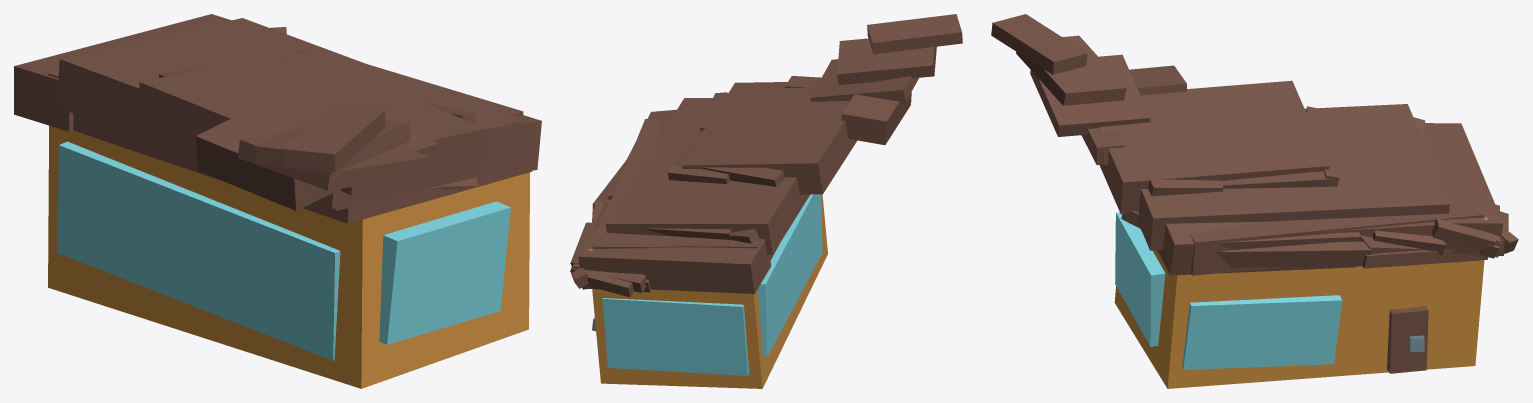
Rendered from Jogurtore.fbx.
The picture shows the model from 3 angles, left to right: view 1: azimuth 30°, elevation 25°; view 2: azimuth 150°, elevation 25°; view 3: azimuth 270°, elevation 25°; orthographic projection. The views are drawn at different scales.
Visible parts, largest first — view 1: mesh_2004811511, mesh_461832873, mesh_1659385762, mesh_938259468, mesh_398621321, mesh_55245588, mesh_2019317318, mesh_1629644134, mesh_2011481608, mesh_1951806346, mesh_1241165192, mesh_417139860 (+2 smaller); view 2: mesh_1659385762, mesh_938259468, mesh_1246377267, mesh_2004811511, mesh_1629644134, mesh_461832873, mesh_1241165192, mesh_2019317318, mesh_1983518271, mesh_55245588, mesh_1951806346, mesh_1695027899 (+8 smaller); view 3: mesh_2004811511, mesh_1659385762, mesh_938259468, mesh_79294037, mesh_1983518271, mesh_398621321, mesh_1951806346, mesh_417139860, mesh_1629644134, mesh_1241165192, mesh_1891197092, mesh_2019317318 (+12 smaller).
Part boxes in pixels (bbox=[...]): mesh_2004811511: bbox=[48, 125, 529, 388]; mesh_461832873: bbox=[57, 141, 340, 360]; mesh_1659385762: bbox=[135, 49, 486, 208]; mesh_938259468: bbox=[56, 18, 521, 210]; mesh_398621321: bbox=[379, 201, 510, 344]; mesh_55245588: bbox=[195, 112, 340, 210]; mesh_2019317318: bbox=[282, 105, 385, 172]; mesh_1629644134: bbox=[14, 14, 231, 131]; mesh_2011481608: bbox=[48, 70, 533, 223]; mesh_1951806346: bbox=[237, 132, 429, 190]; mesh_1241165192: bbox=[254, 119, 409, 174]; mesh_417139860: bbox=[501, 114, 541, 174]; mesh_1659385762: bbox=[682, 81, 857, 194]; mesh_938259468: bbox=[605, 98, 809, 254]; mesh_1246377267: bbox=[602, 298, 748, 375]; mesh_2004811511: bbox=[588, 194, 827, 388]; mesh_1629644134: bbox=[578, 229, 770, 293]; mesh_461832873: bbox=[757, 194, 822, 357]; mesh_1241165192: bbox=[837, 38, 936, 84]; mesh_2019317318: bbox=[867, 14, 962, 54]; mesh_1983518271: bbox=[593, 119, 687, 248]; mesh_55245588: bbox=[841, 92, 911, 145]; mesh_1951806346: bbox=[810, 59, 918, 101]; mesh_1695027899: bbox=[702, 157, 784, 186]; mesh_2004811511: bbox=[1114, 217, 1487, 388]; mesh_1659385762: bbox=[1099, 80, 1329, 214]; mesh_938259468: bbox=[1138, 104, 1449, 250]; mesh_79294037: bbox=[1182, 295, 1342, 369]; mesh_1983518271: bbox=[1189, 165, 1483, 275]; mesh_398621321: bbox=[1115, 212, 1165, 346]; mesh_1951806346: bbox=[1030, 54, 1150, 136]; mesh_417139860: bbox=[1160, 221, 1360, 275]; mesh_1629644134: bbox=[1425, 123, 1503, 256]; mesh_1241165192: bbox=[1016, 35, 1126, 105]; mesh_1891197092: bbox=[1216, 241, 1371, 267]; mesh_2019317318: bbox=[991, 14, 1087, 74].
Bounding box in the file's own units: 65.63 × 62.55 × 111.
